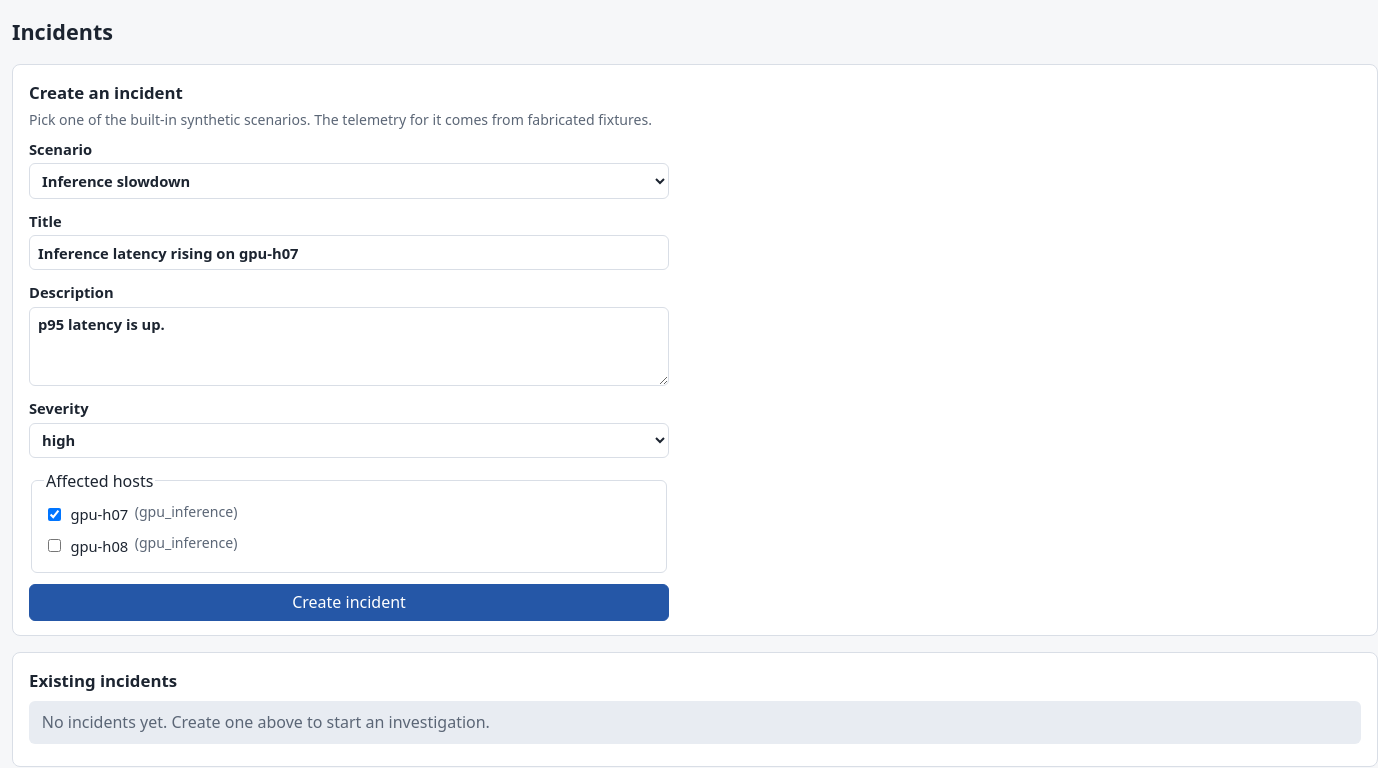
IncidentsPage › re-fills the form when another scenario is chosen
This screenshot has width=1378, height=768.
Select "Stale or missing telemetry" in the dropdown labelled "Scenario" at (349, 181), box [29,163,669,198]
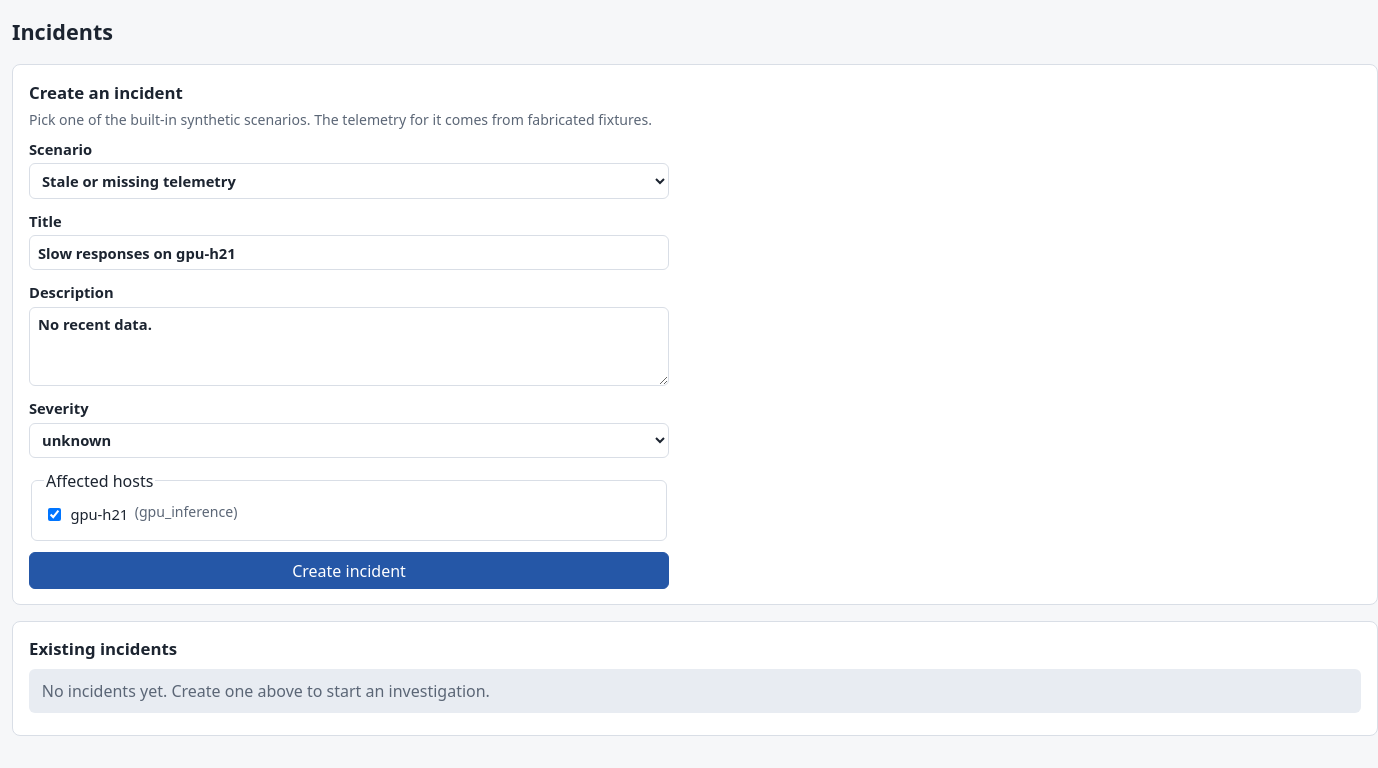
Expected: the checkbox labelled "gpu-h21 (gpu_inference)" is shown, [48,508,61,521]
Expected: the field labelled "Title" holds "Slow responses on gpu-h21", [29,235,669,270]
Expected: the label labelled "gpu-h07" is gone
